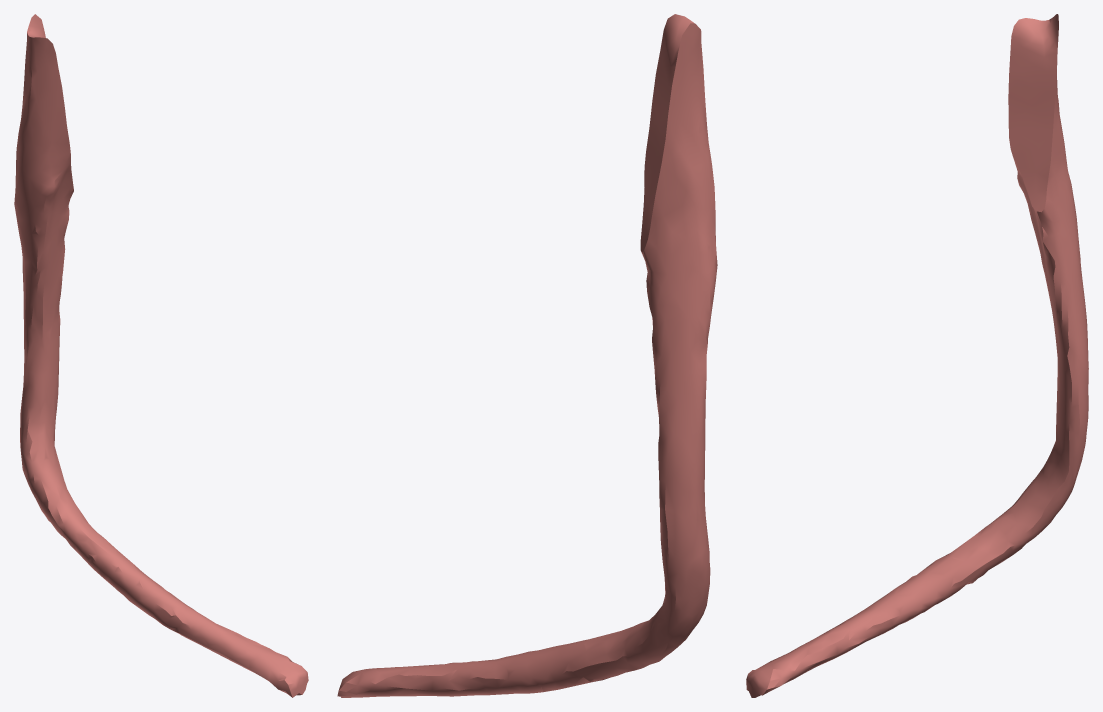
The model's file is fma47127_mm1692.glb.
3 views of the same model, side by side, from view 1: azimuth 30°, elevation 25°; view 2: azimuth 210°, elevation 25°; view 3: azimuth 270°, elevation 25° (orthographic). The views are drawn at different scales.
Parts seen in each view (by area): view 1: FMA47127_MM1692; view 2: FMA47127_MM1692; view 3: FMA47127_MM1692.
Boxes of the visible parts, left/top/right/bottom form: FMA47127_MM1692: left=14, top=14, right=308, bottom=697; FMA47127_MM1692: left=337, top=14, right=717, bottom=697; FMA47127_MM1692: left=746, top=14, right=1088, bottom=697.
Bounding box in the file's own units: 0.028 × 0.1054 × 0.0525.
